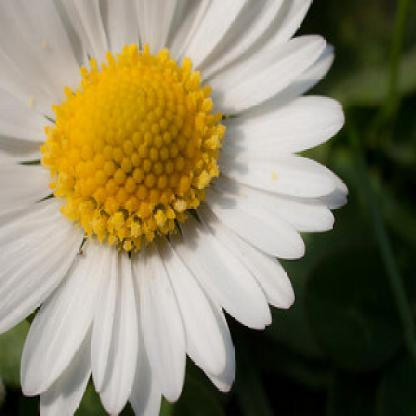ASTER: (4, 6, 357, 410)
